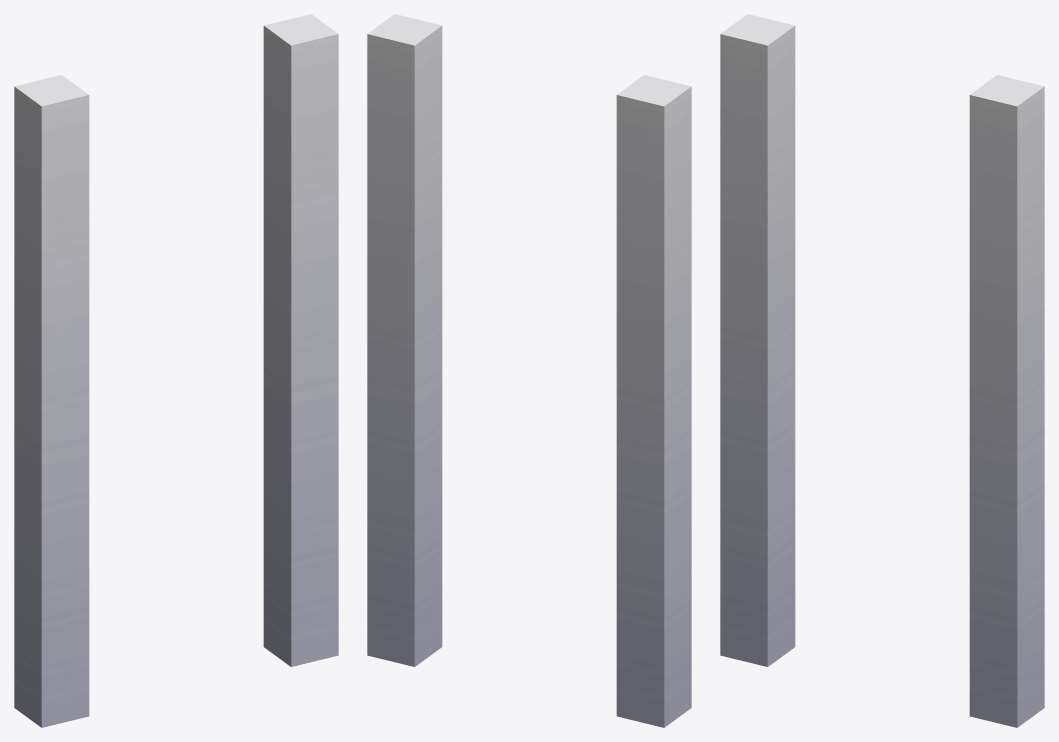
3 views of the same model, side by side, from view 1: azimuth 30°, elevation 25°; view 2: azimuth 150°, elevation 25°; view 3: azimuth 330°, elevation 25° (orthographic).
Visible parts, largest first — view 1: window-white-round-middle; view 2: window-white-round-middle; view 3: window-white-round-middle.
Boxes of the visible parts, x1,y1,x2,y2 form: window-white-round-middle: (14,14,338,727); window-white-round-middle: (367,14,691,727); window-white-round-middle: (720,14,1044,727).
Size of the model in its own units: 0.3125 by 0.625 by 0.05.
1 material, 1 textured.
